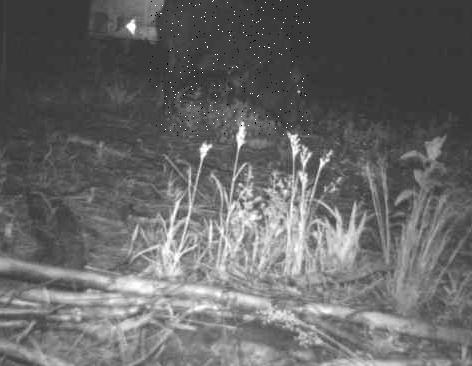Hog: (149, 0, 310, 136)
